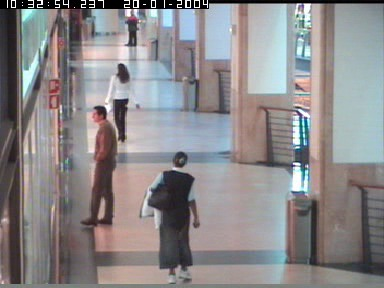person: (138, 150, 199, 284), (80, 105, 118, 227), (102, 63, 139, 143), (124, 11, 139, 46)
